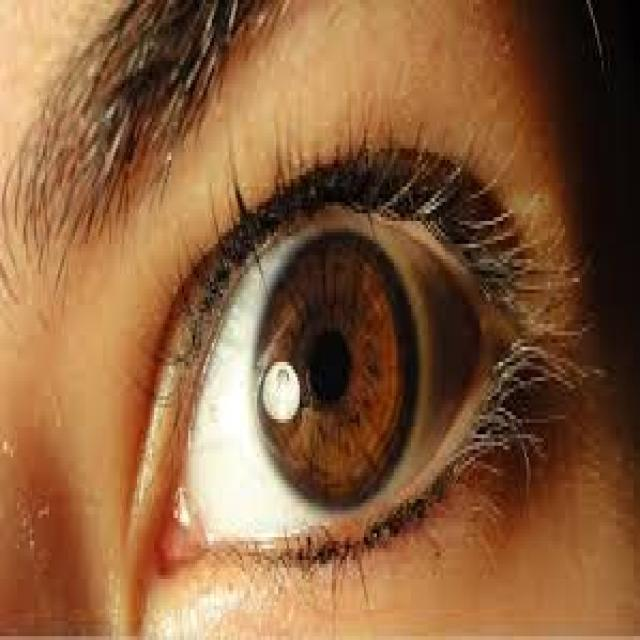Normal: (0, 0, 627, 636)
